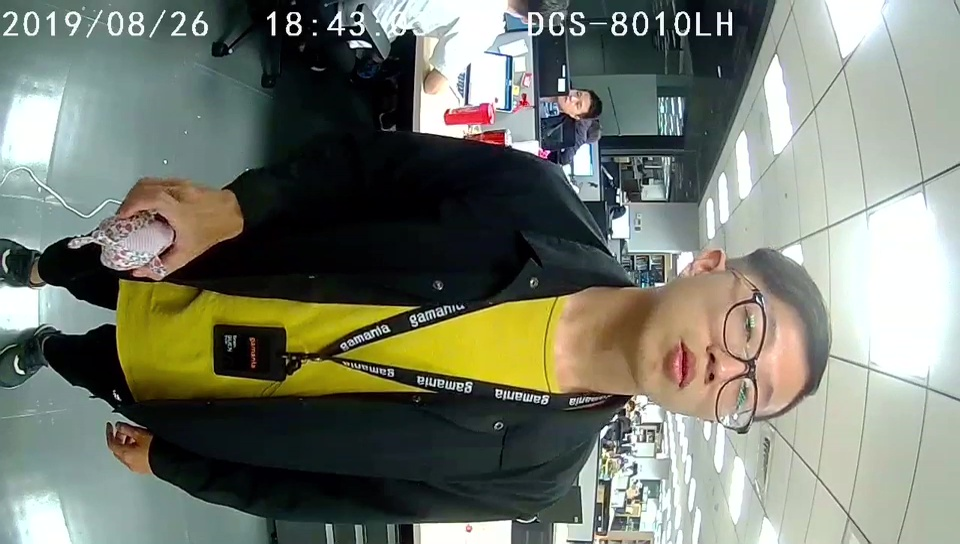pig: (96, 210, 174, 280)
